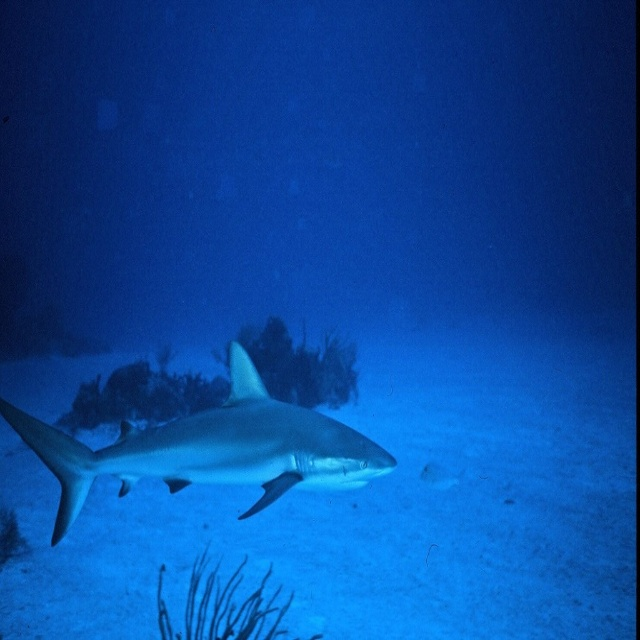Shark: (0, 339, 398, 549)
